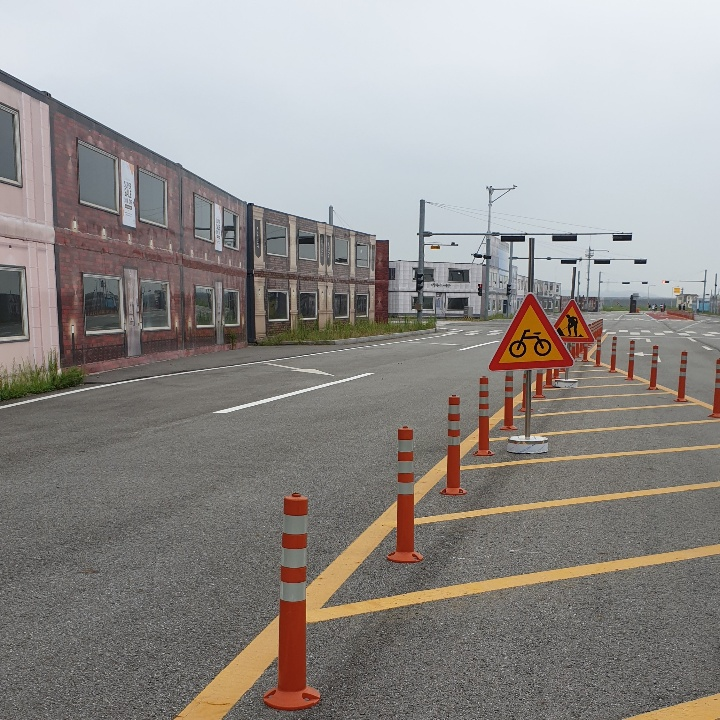bicycle: (487, 296, 570, 365)
const: (556, 309, 586, 336)
